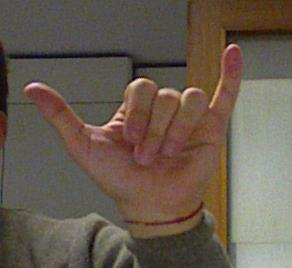clockwise: (22, 39, 245, 204)
